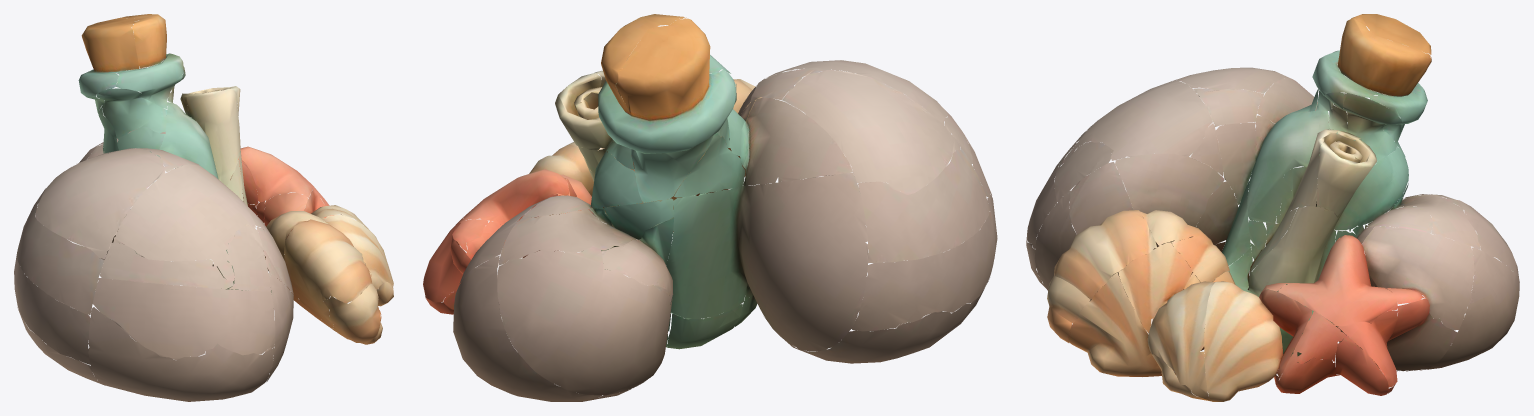
3 views of the same model, side by side, from view 1: azimuth 30°, elevation 25°; view 2: azimuth 150°, elevation 25°; view 3: azimuth 270°, elevation 25° (orthographic). The views are drawn at different scales.
Parts seen in each view (by area): view 1: F03-beach-discovery; view 2: F03-beach-discovery; view 3: F03-beach-discovery.
Part boxes in pixels (<box>): F03-beach-discovery: <box>14,14,393,401</box>; F03-beach-discovery: <box>423,14,997,401</box>; F03-beach-discovery: <box>1026,14,1519,401</box>.
Bounding box in the file's own units: 1.22 × 0.9016 × 1.37.
Materials: 1 (1 with a texture image).
